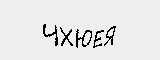Е: (92, 29, 103, 48)
Х: (58, 24, 74, 50)
Ч: (40, 23, 61, 47)
Ю: (74, 27, 90, 49)
Я: (102, 24, 117, 47)
